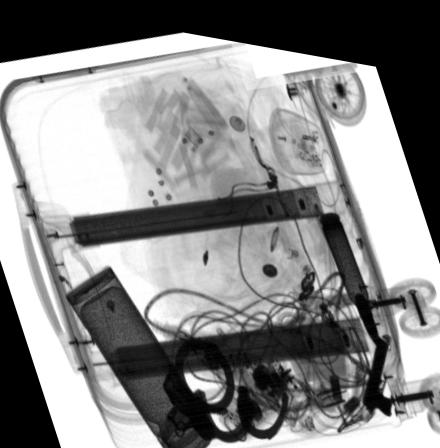Bullet: (317, 200, 381, 339)
Gun: (361, 320, 393, 403)
HandCuffs: (162, 329, 290, 437)
